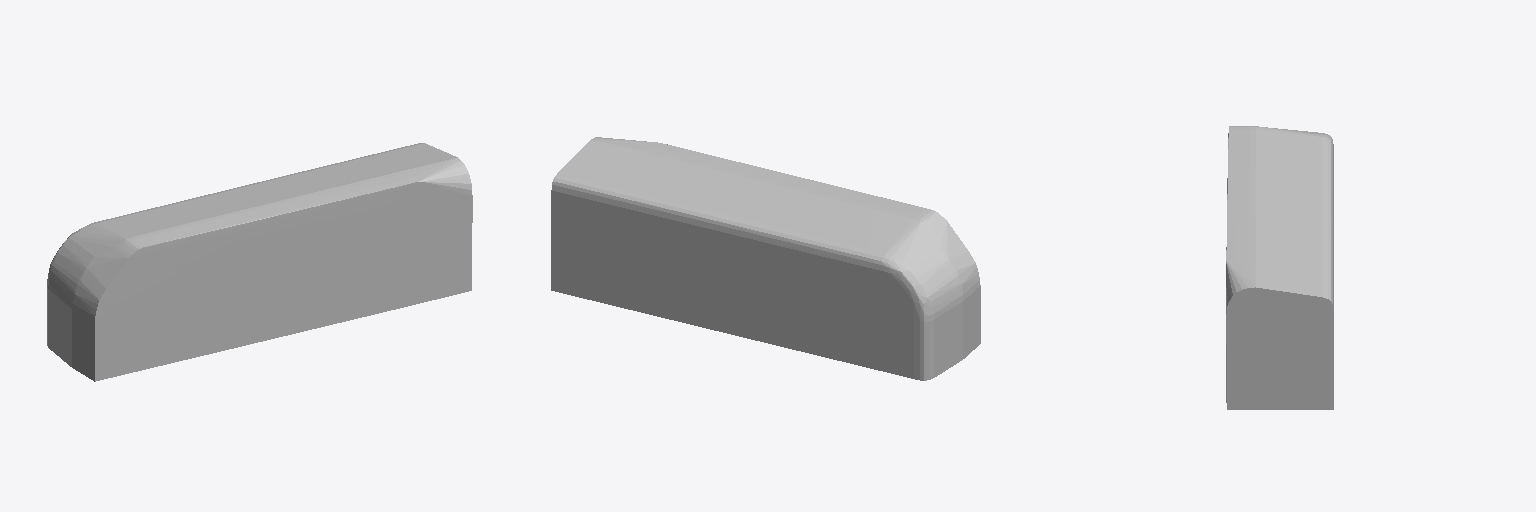
File: Toaster_24_collision_25.obj
The picture shows the model from 3 angles: view 1: azimuth 30°, elevation 25°; view 2: azimuth 150°, elevation 25°; view 3: azimuth 270°, elevation 25°; orthographic projection.
Bounding box in the file's own units: 0.239 × 0.0739 × 0.0585.